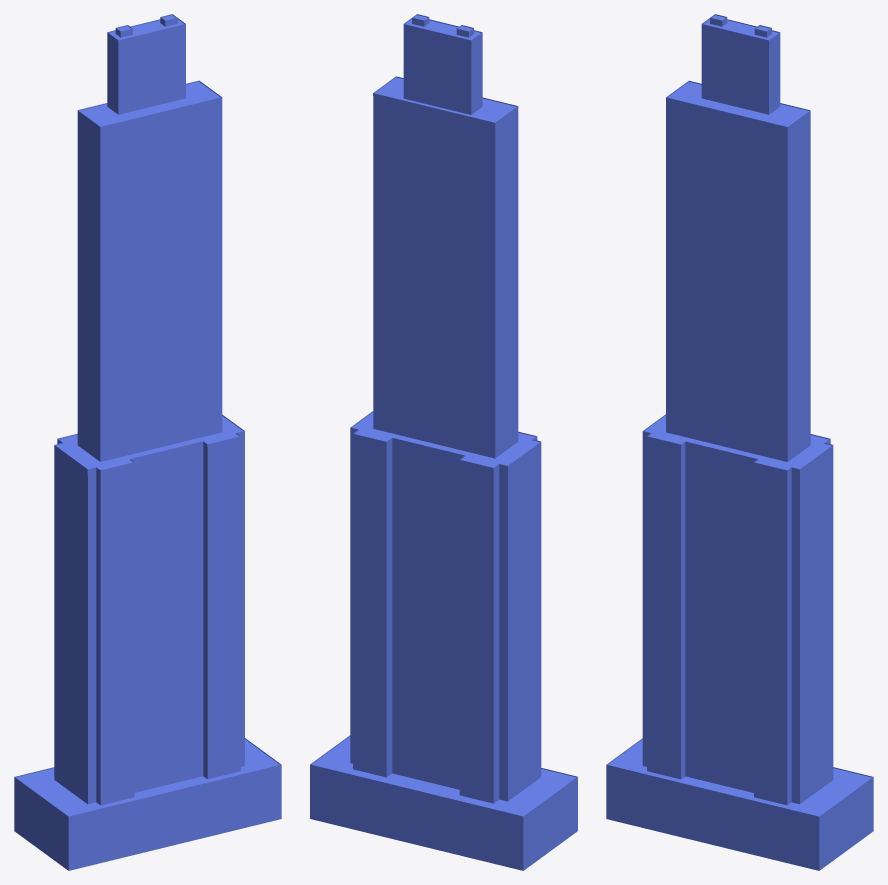
The model's file is Building_04_4.FBX.
3 views of the same model, side by side, from view 1: azimuth 30°, elevation 25°; view 2: azimuth 150°, elevation 25°; view 3: azimuth 330°, elevation 25° (orthographic).
Visible parts, largest first — view 1: Building_04_4; view 2: Building_04_4; view 3: Building_04_4.
Part boxes in pixels (bbox=[...]): Building_04_4: bbox=[14, 14, 281, 870]; Building_04_4: bbox=[310, 14, 577, 870]; Building_04_4: bbox=[606, 14, 873, 870].
Bounding box in the file's own units: 126696 × 455686 × 56003.
